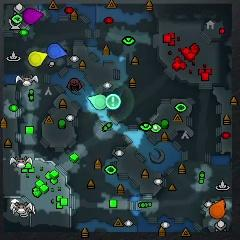Other: (106, 94, 122, 109)
p1: (48, 44, 66, 59)
p2: (89, 94, 107, 111)
p3: (25, 9, 43, 24)
p4: (28, 51, 48, 66)
p5: (209, 198, 226, 219)
